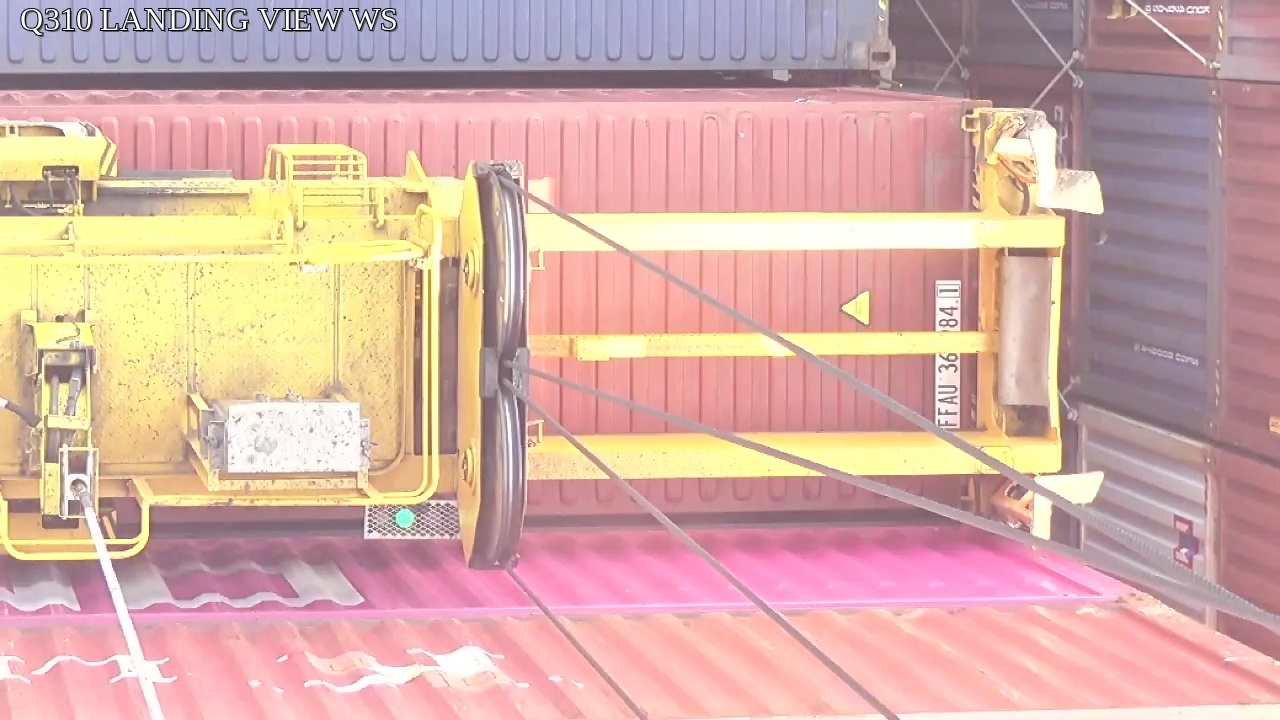right: (454, 159, 529, 572)
